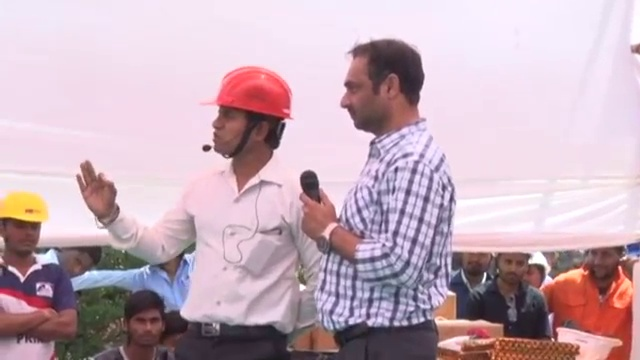helmet: (190, 63, 303, 122), (554, 326, 623, 360), (1, 192, 50, 230), (526, 251, 552, 275)
helmet_off: (341, 38, 430, 139), (118, 294, 172, 351), (587, 245, 627, 283), (495, 250, 531, 291), (57, 245, 99, 280), (461, 248, 492, 283)
helmet_on: (193, 63, 303, 177), (1, 191, 50, 266), (527, 251, 552, 290)
person: (76, 62, 327, 357), (301, 38, 464, 360), (0, 188, 79, 359), (540, 246, 637, 346), (474, 252, 550, 337), (447, 248, 506, 329)
